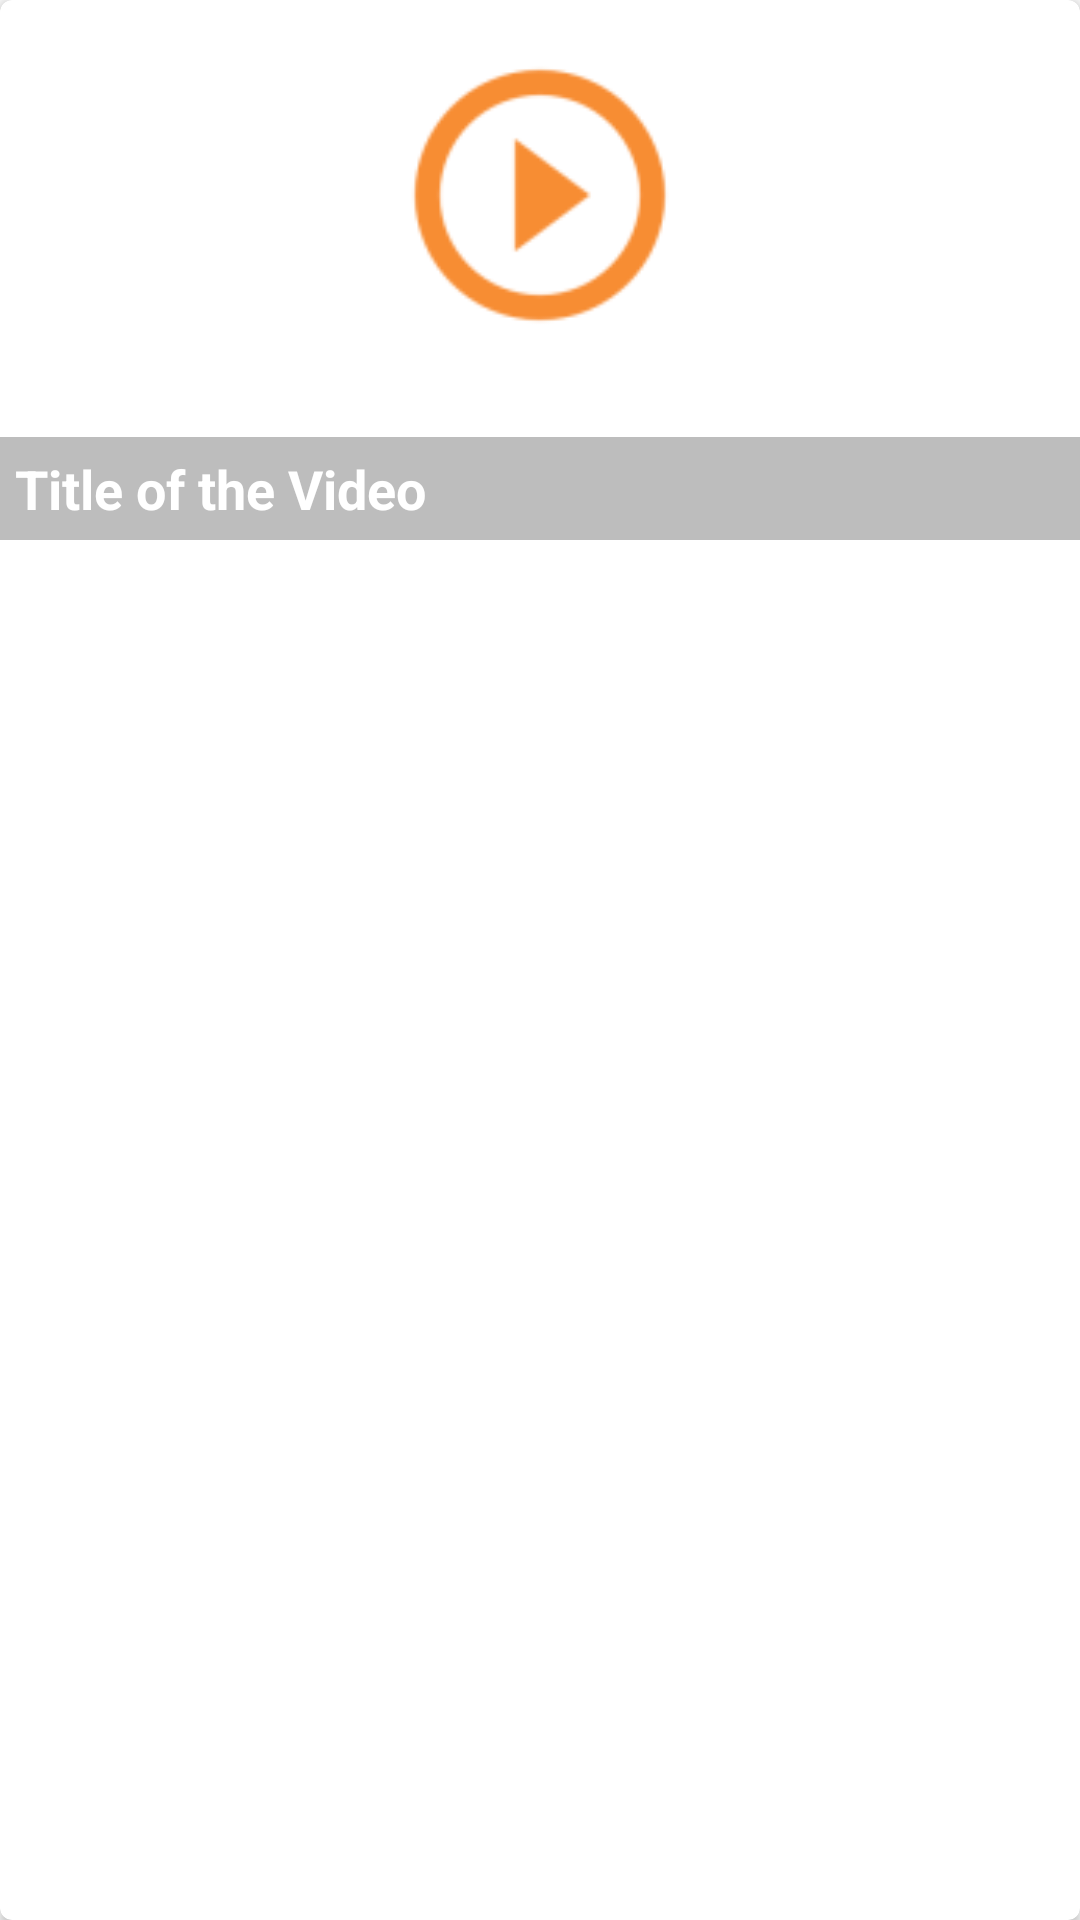

Named icons in this screenshot (1080px×1920px) and their centers, point (x, y):
play: point (540, 195)
